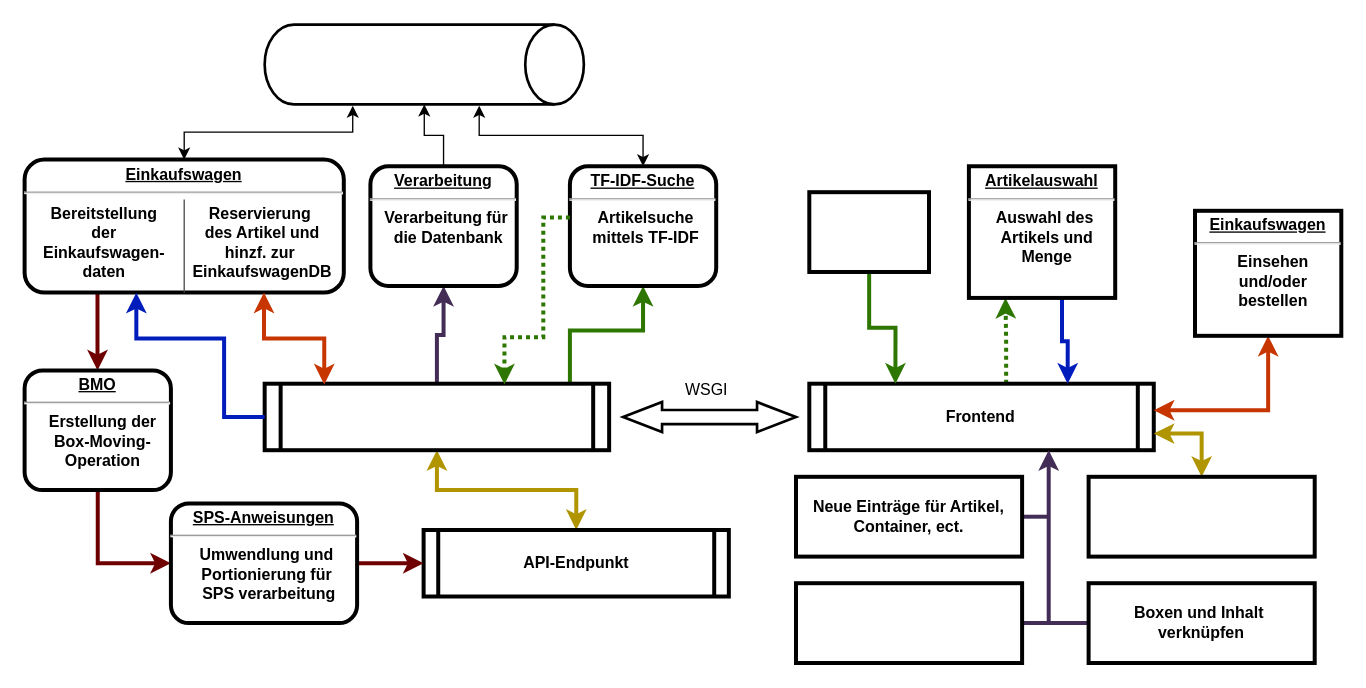
The diagram is 1366 pixels wide and 688 high, and some of its shapes have lost their labels. Each missing label, with the centre of its shape:
"Artikelsuche" goes at point (868, 231).
"Backend" goes at point (436, 416).
"Datenabank" goes at point (424, 64).
"Neues Lager erzeugen" goes at point (908, 622).
"SPS-Control" goes at point (1201, 516).
